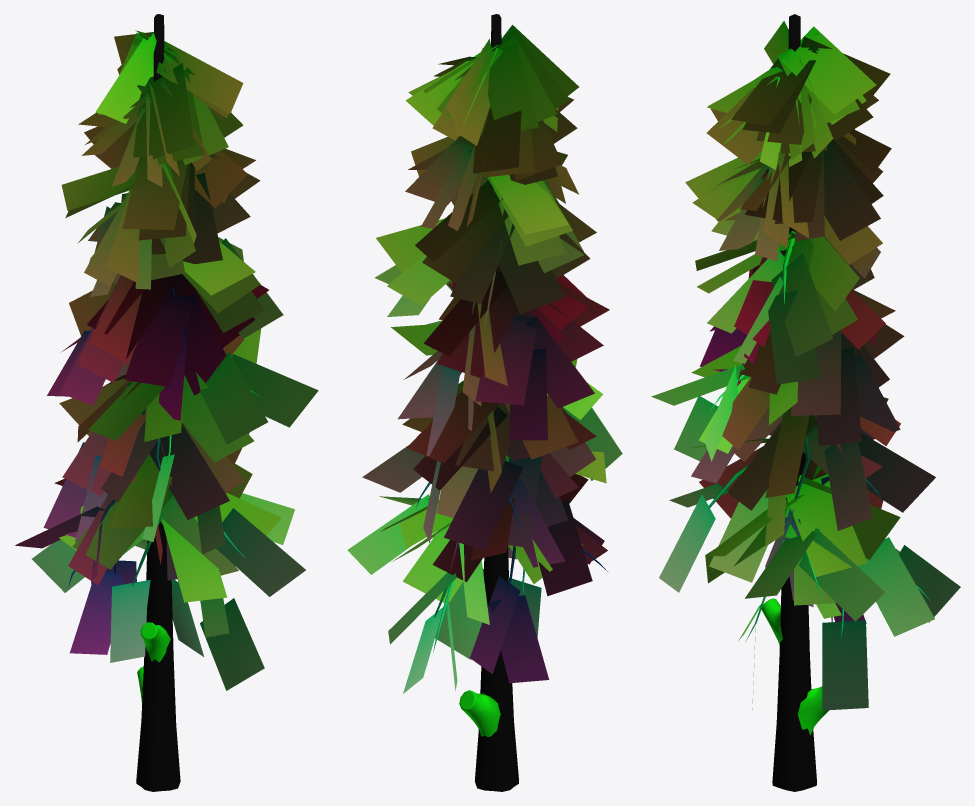
File: M_Pine_3_4.fbx
3 renders of one model, left to right at view 1: azimuth 30°, elevation 25°; view 2: azimuth 150°, elevation 25°; view 3: azimuth 270°, elevation 25°, orthographic.
Parts seen in each view (by area): view 1: Tree_4; view 2: Tree_4; view 3: Tree_4.
Part boxes in pixels (<box>): Tree_4: <box>15,14,318,791</box>; Tree_4: <box>347,14,622,791</box>; Tree_4: <box>651,14,960,791</box>.
Size of the model in its own units: 1460 by 4327 by 1583.
